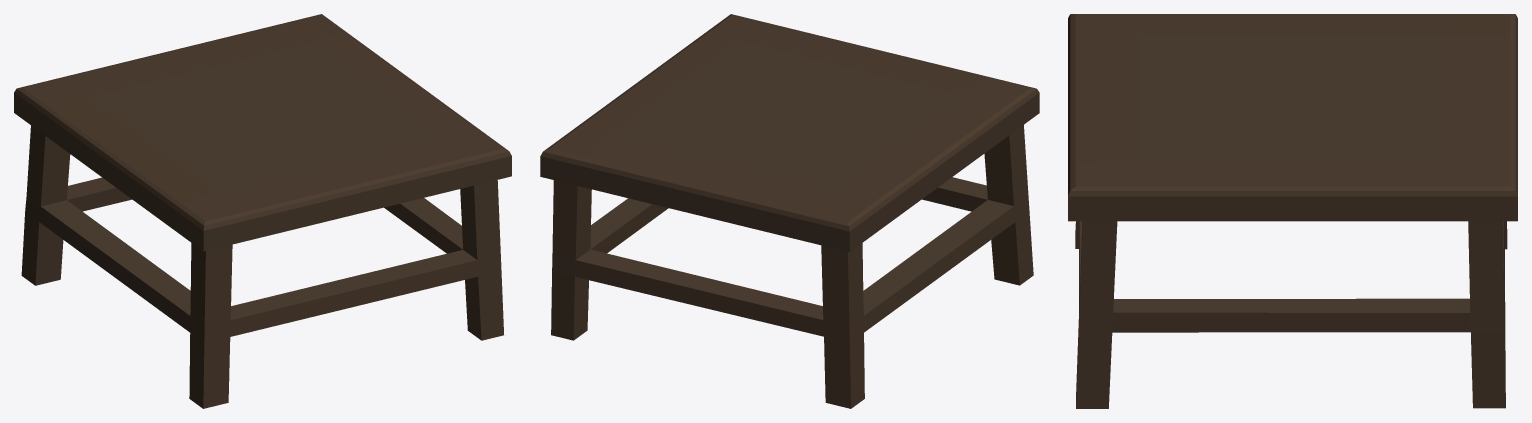
Rendered from Mesas6.fbx.
3 views of the same model, side by side, from view 1: azimuth 30°, elevation 25°; view 2: azimuth 150°, elevation 25°; view 3: azimuth 270°, elevation 25° (orthographic). The views are drawn at different scales.
Parts seen in each view (by area): view 1: Cube.005; view 2: Cube.005; view 3: Cube.005.
Boxes of the visible parts, x1,y1,x2,y2 form: Cube.005: (14, 14, 511, 408); Cube.005: (540, 14, 1039, 408); Cube.005: (1068, 14, 1517, 408).
Bounding box in the file's own units: 229 × 133 × 244.
